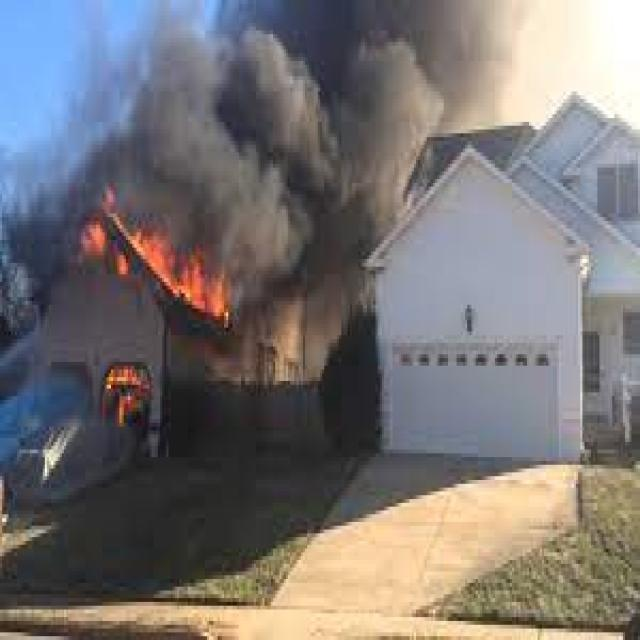Fire: (85, 192, 240, 334)
Smoke: (134, 5, 521, 132), (84, 117, 366, 254)
